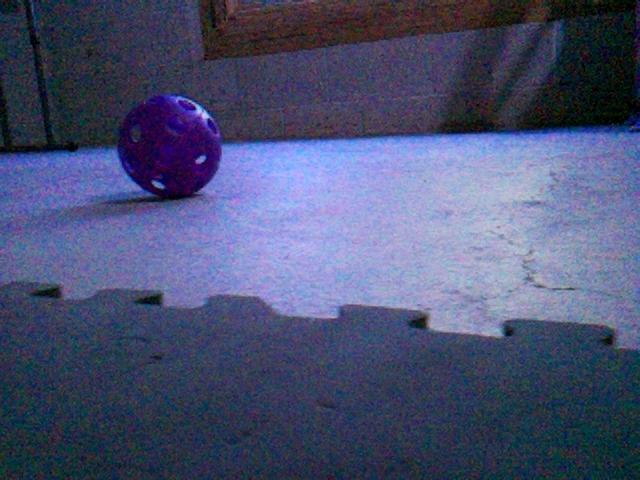Purple: (115, 92, 223, 199)
